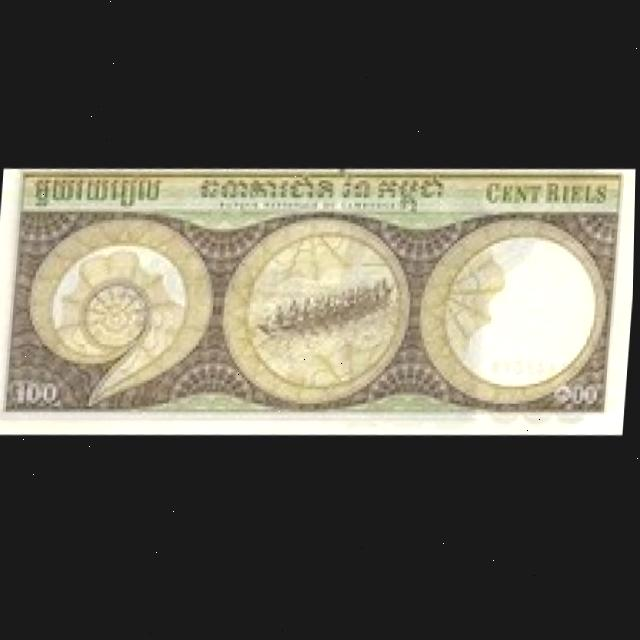banknote: (0, 138, 637, 473), (0, 367, 69, 420)
